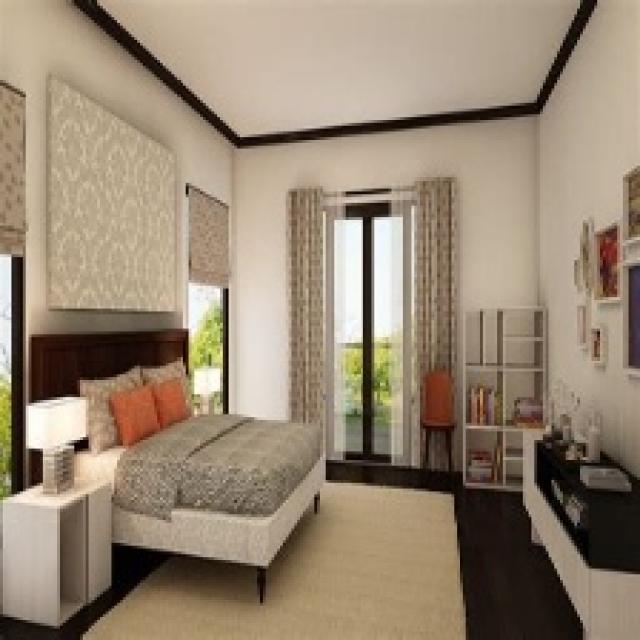Bed: (26, 326, 326, 603)
